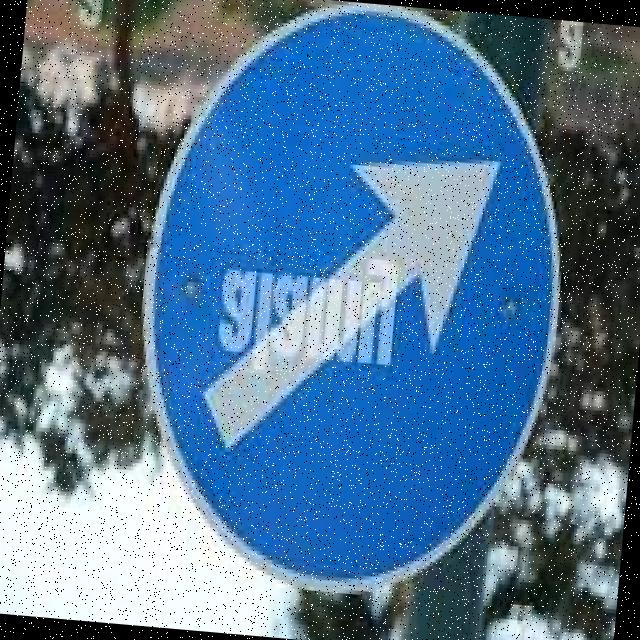compulsory_keep_right: (111, 0, 583, 621)
